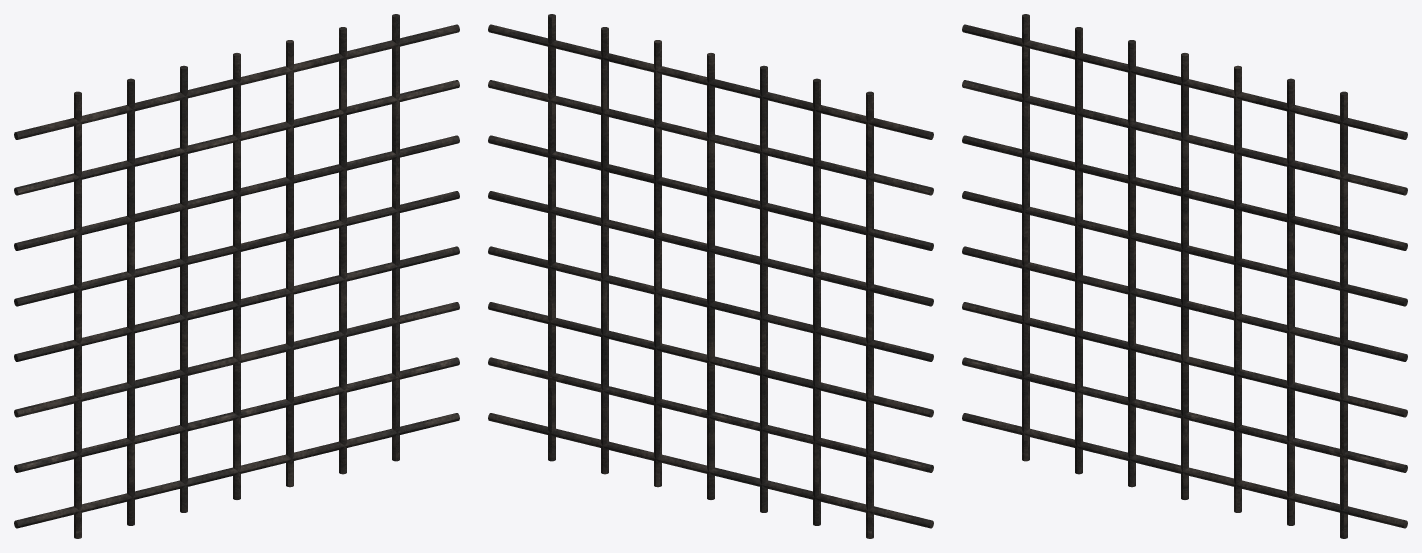
Rendered from bars_metal_2.fbx.
3 views of the same model, side by side, from view 1: azimuth 30°, elevation 25°; view 2: azimuth 150°, elevation 25°; view 3: azimuth 330°, elevation 25° (orthographic).
Parts seen in each view (by area): view 1: bars_metal_2; view 2: bars_metal_2; view 3: bars_metal_2.
Part boxes in pixels (bbox=[...]): bars_metal_2: bbox=[14, 14, 459, 538]; bars_metal_2: bbox=[488, 14, 933, 538]; bars_metal_2: bbox=[962, 14, 1407, 538].
Size of the model in its own units: 250 by 240 by 4.
